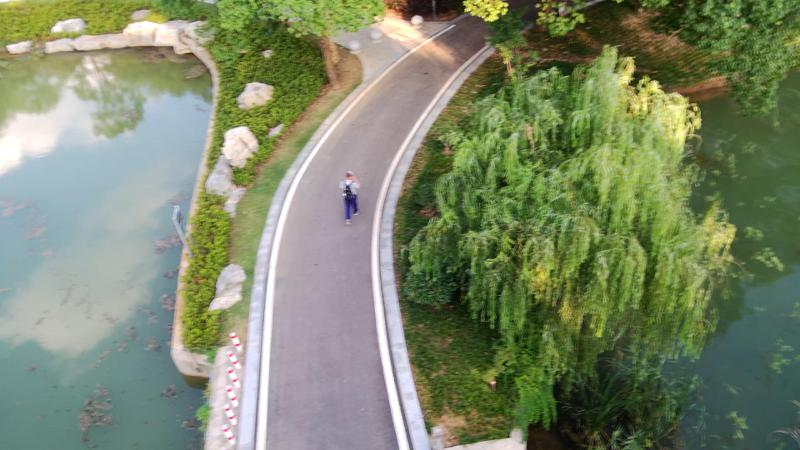passerby: (338, 169, 362, 228)
